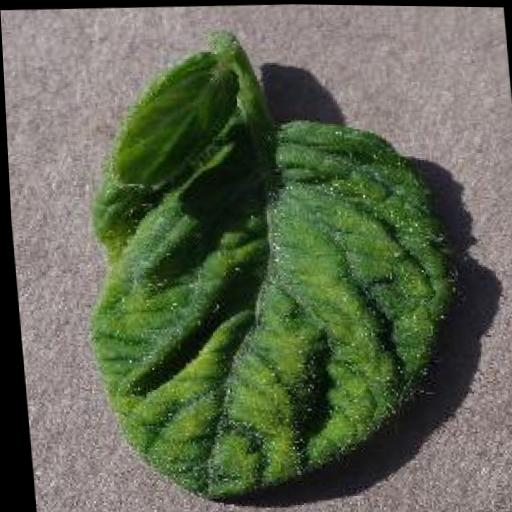Yellow Leaf Curl Virus: (63, 39, 469, 503)
